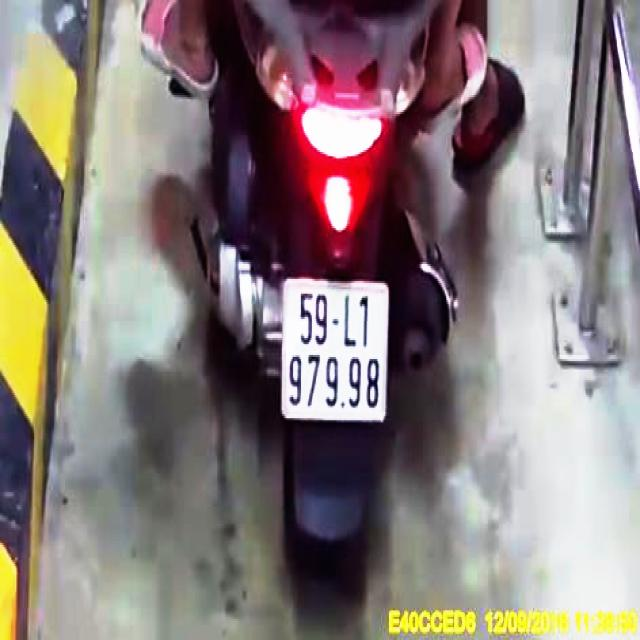license_plate: (285, 283, 387, 418)
